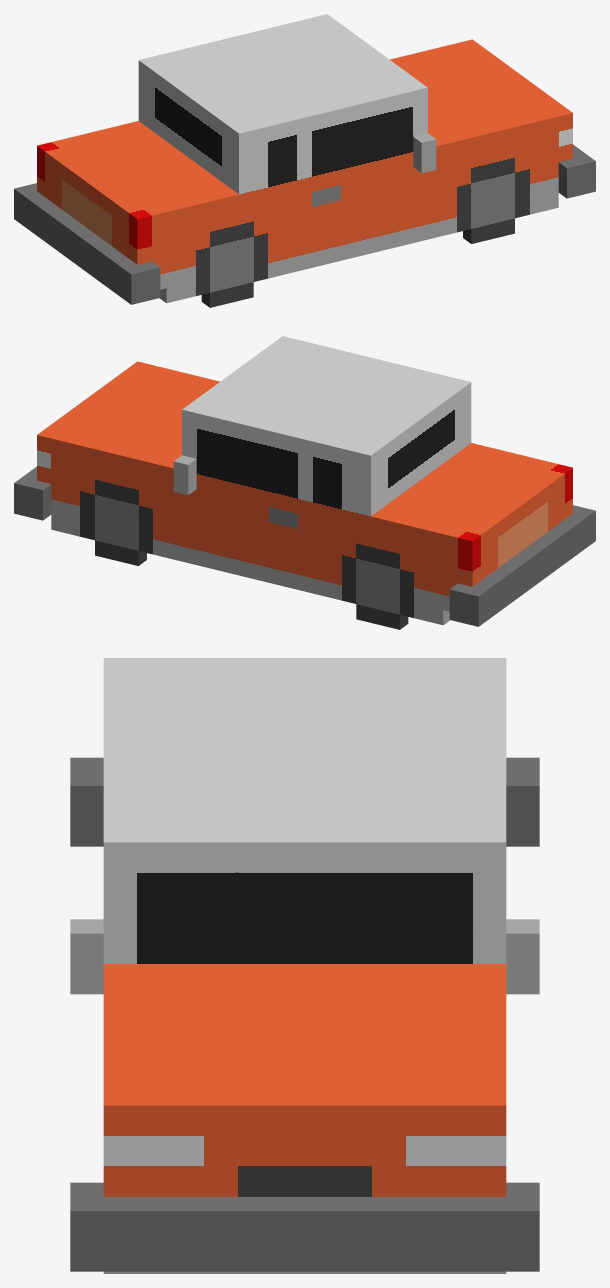
Rendered from veh_car4.fbx.
3 renders of one model, top to bottom at view 1: azimuth 30°, elevation 25°; view 2: azimuth 150°, elevation 25°; view 3: azimuth 270°, elevation 25°, orthographic. The views are drawn at different scales.
Parts seen in each view (by area): view 1: veh_car4; view 2: veh_car4; view 3: veh_car4.
Boxes of the visible parts, x1=… form: veh_car4: x1=14, y1=14, x2=595, y2=307; veh_car4: x1=14, y1=336, x2=595, y2=629; veh_car4: x1=70, y1=658, x2=539, y2=1273.
Bounding box in the file's own units: 3.2 × 1.4 × 1.1.
Materials: 1 (1 with a texture image).
